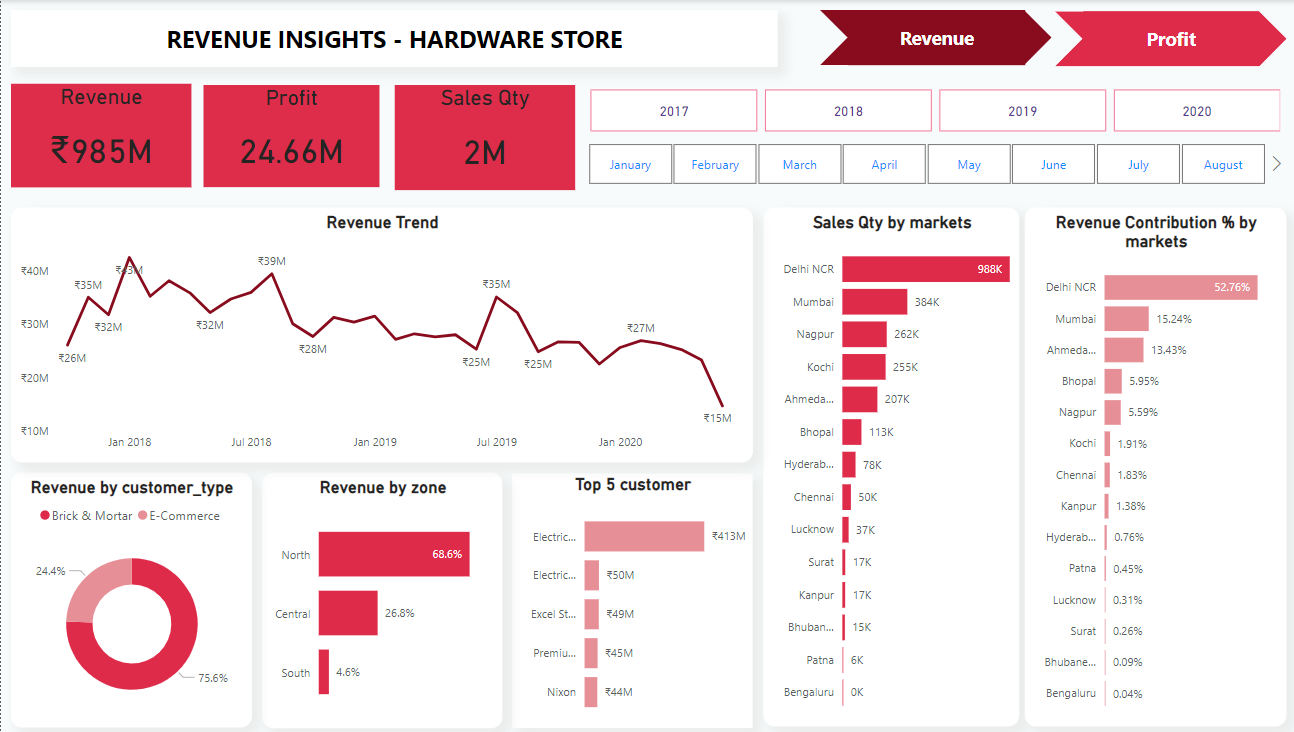

The page's visual inventory and layout, read from the dashboard file:
{"tool":"powerbi","page":{"name":"Key Insights","canvas":[1280,720],"ordinal":1},"visuals":[{"type":"card","title":"Revenue","fields":{"Values":["BaseMeasures.Revenue"]},"box":[183.4,6.1,146.7,99],"z":0},{"type":"card","title":"Sales Qty","fields":{"Values":["BaseMeasures.Sales Qty"]},"box":[338.6,7.3,146.7,99],"z":1000},{"type":"clusteredBarChart","title":"Top 5 customer","fields":{"Category":["sales customers.custmer_name"],"Y":["BaseMeasures.Revenue"]},"box":[979.2,460.8,283.6,246.9],"z":2000},{"type":"barChart","title":"Sales Qty by markets","fields":{"Y":["BaseMeasures.Sales Qty"],"Category":["sales markets.markets_name"]},"box":[183.4,124.7,237.1,583.1],"z":3000},{"type":"barChart","title":" Revenue by zone","fields":{"Y":["BaseMeasures.Revenue"],"Category":["sales markets.zone"]},"box":[682.1,460.8,290.9,246.9],"z":4000},{"type":"donutChart","fields":{"Y":["BaseMeasures.Revenue  Contribution %"],"Category":["sales customers.customer_type"]},"box":[683.3,286,580.6,166.2],"z":5000},{"type":"slicer","fields":{"Values":["sales date.cy_date.Variation.Date Hierarchy.Year"]},"box":[655.2,7.3,278.7,59.9],"z":6000},{"type":"areaChart","title":"Revenue Trend","fields":{"Category":["sales date.date.Variation.Date Hierarchy.Year","sales date.date.Variation.Date Hierarchy.Month"],"Y":["BaseMeasures.Revenue"]},"box":[682.1,86.8,580.6,188.3],"z":7000},{"type":"barChart","title":" Revenue  Contribution % by markets","fields":{"Category":["sales markets.markets_name"],"Y":["BaseMeasures.Revenue"]},"box":[430.3,124.7,237.1,583.1],"z":8000},{"type":"slicer","fields":{"Values":["sales date.cy_date"]},"box":[949.8,6.1,312.9,61.1],"z":9000},{"type":"card","title":"Profit","fields":{"Values":["BaseMeasures.Profit"]},"box":[500,7.3,140.6,99],"z":10000},{"type":"shape","box":[0,0,168.7,789.7],"z":11000},{"type":"textbox","box":[0,11,168.7,75.8],"z":12000},{"type":"shape","box":[14.7,47.7,140.6,57.5],"z":13000},{"type":"actionButton","box":[1.2,309.3,168.7,51.3],"z":17000},{"type":"image","box":[240,396.8,98.9,95.3],"z":18000},{"type":"actionButton","box":[0,354.5,168.7,90.5],"z":21000},{"type":"actionButton","box":[0,449.8,168.7,81.9],"z":23000},{"type":"actionButton","box":[4.9,231,157.7,55],"z":25500}]}

Visuals, with their boxes in screenshot pixels (x1, y1, x2, y2), scaled from the page's 1280x720 canvas onto the 1294x732 screenshot:
"Revenue" card: 185, 6, 334, 107
"Sales Qty" card: 342, 7, 491, 108
"Top 5 customer" clusteredBarChart: 990, 468, 1277, 719
"Sales Qty by markets" barChart: 185, 127, 425, 720
" Revenue by zone" barChart: 690, 468, 984, 719
donutChart - BaseMeasures.Revenue  Contribution % x sales customers.customer_type: 691, 291, 1278, 460
slicer - sales date.cy_date.Variation.Date Hierarchy.Year: 662, 7, 944, 68
"Revenue Trend" areaChart: 690, 88, 1277, 280
" Revenue  Contribution % by markets" barChart: 435, 127, 675, 720
slicer - sales date.cy_date: 960, 6, 1277, 68
"Profit" card: 505, 7, 648, 108
shape: 0, 0, 171, 731
textbox: 0, 11, 171, 88
shape: 15, 48, 157, 107
actionButton: 1, 314, 172, 367
image: 243, 403, 343, 500
actionButton: 0, 360, 171, 452
actionButton: 0, 457, 171, 541
actionButton: 5, 235, 164, 291
